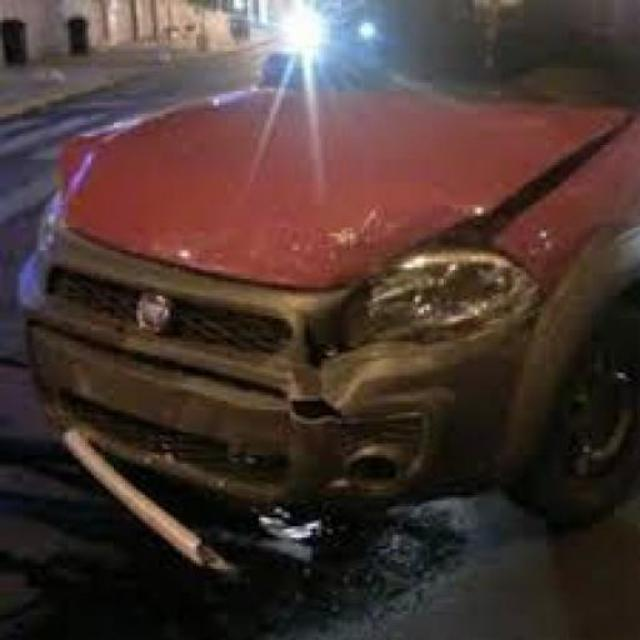dislocated part: (68, 191, 536, 570)
